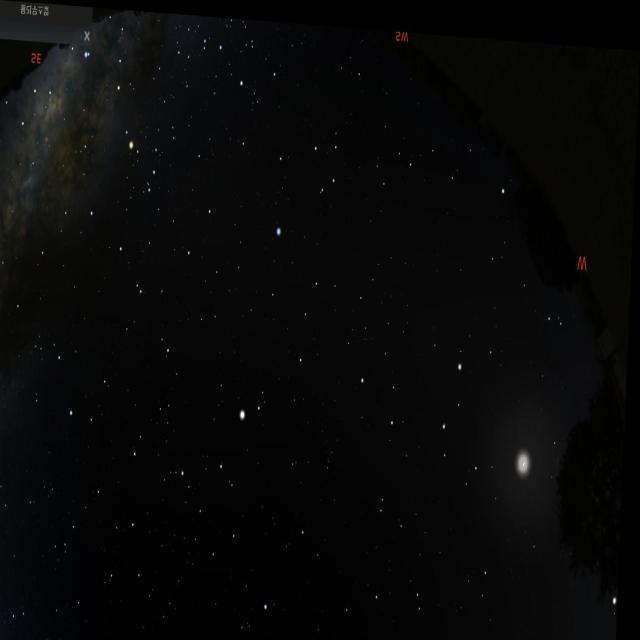bootes: (192, 392, 260, 562)
leo: (355, 336, 478, 487)
lyra: (11, 592, 64, 640)
moon: (510, 394, 565, 497)
scorpius: (96, 28, 173, 199)
